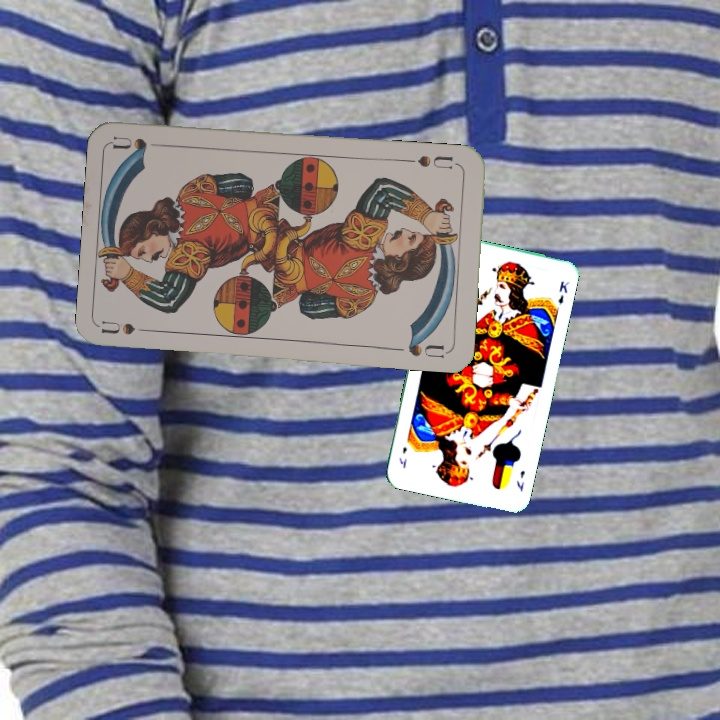EK: (512, 466, 527, 494)
SU: (401, 151, 461, 172), (99, 317, 159, 338)
